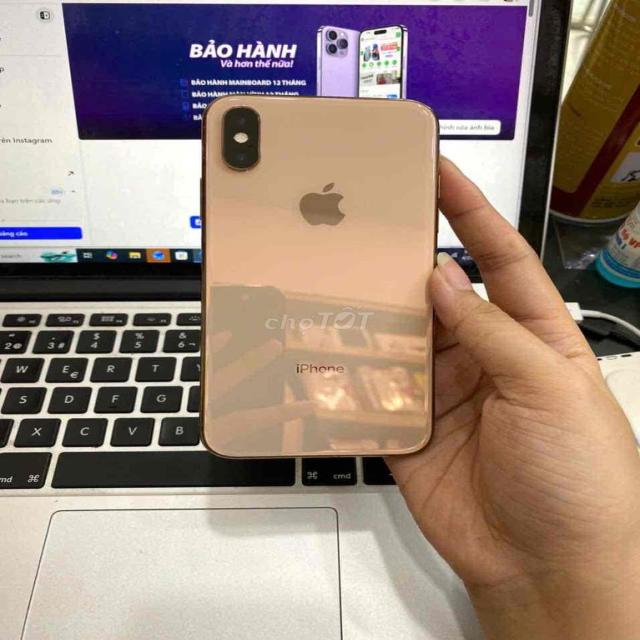scratch: (252, 108, 266, 129)
